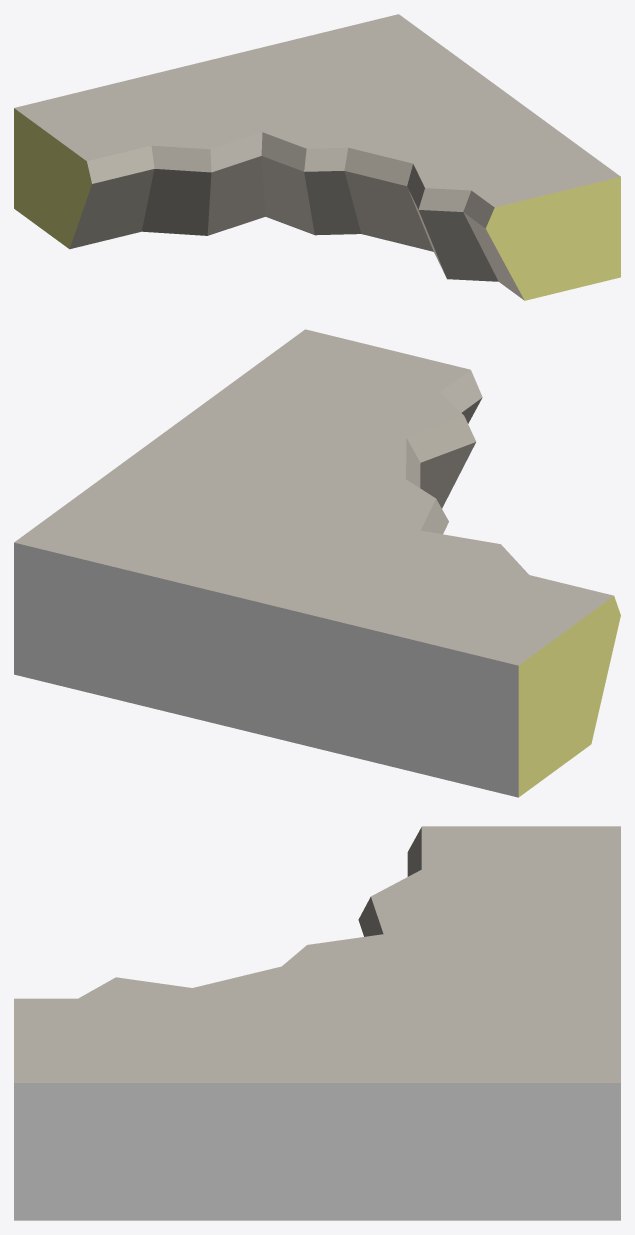
The model's file is Cracked_Curve_Inner_4x4_1_Top.glb.
3 views of the same model, one above another, from view 1: azimuth 30°, elevation 25°; view 2: azimuth 150°, elevation 25°; view 3: azimuth 270°, elevation 25° (orthographic). The views are drawn at different scales.
Parts seen in each view (by area): view 1: Cracked_Curve_Inner_4x4_1_Top; view 2: Cracked_Curve_Inner_4x4_1_Top; view 3: Cracked_Curve_Inner_4x4_1_Top.
Boxes of the visible parts, left/top/right/bottom form: Cracked_Curve_Inner_4x4_1_Top: left=14, top=14, right=620, bottom=300; Cracked_Curve_Inner_4x4_1_Top: left=14, top=329, right=620, bottom=797; Cracked_Curve_Inner_4x4_1_Top: left=14, top=826, right=620, bottom=1220.
Bounding box in the file's own units: 400 × 100 × 400.
